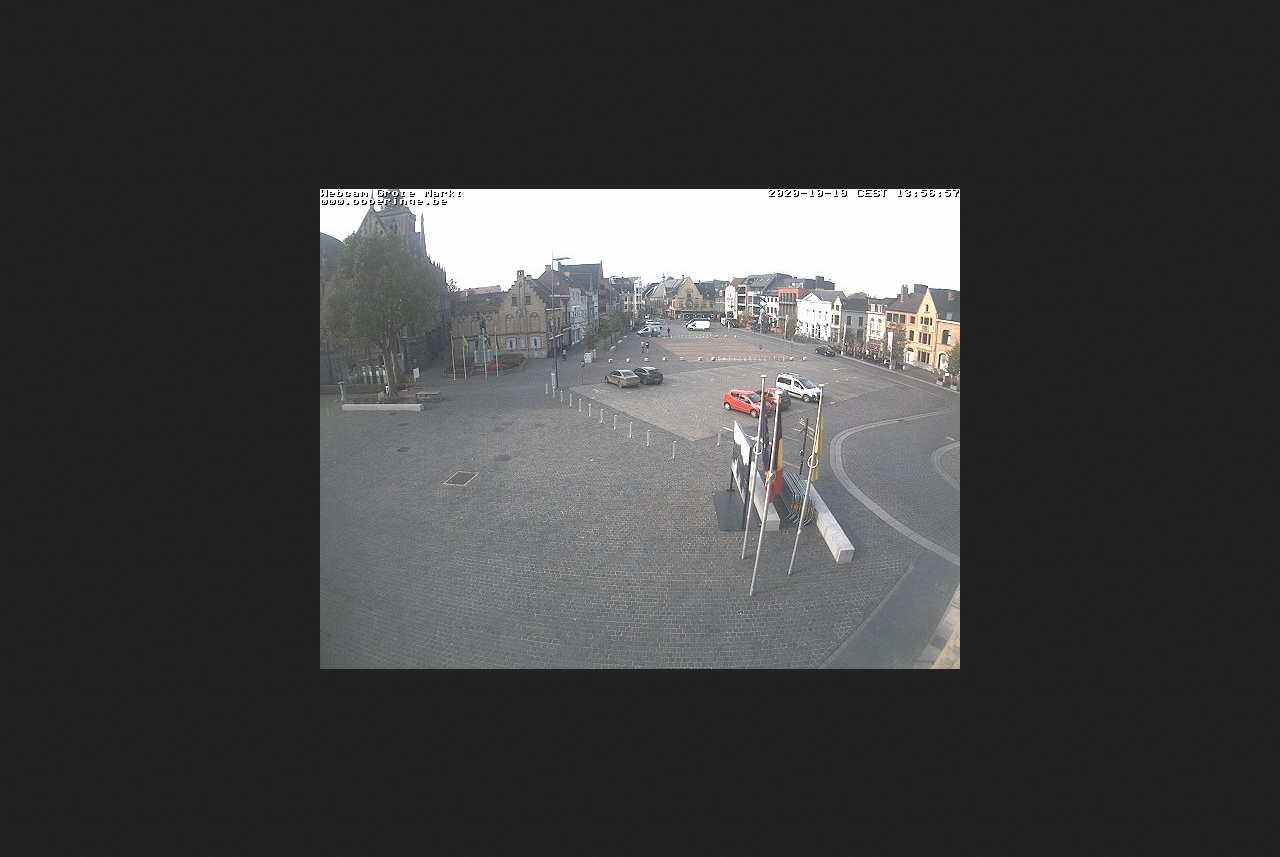no: (804, 393, 829, 484), (753, 386, 771, 470), (769, 395, 787, 478)
